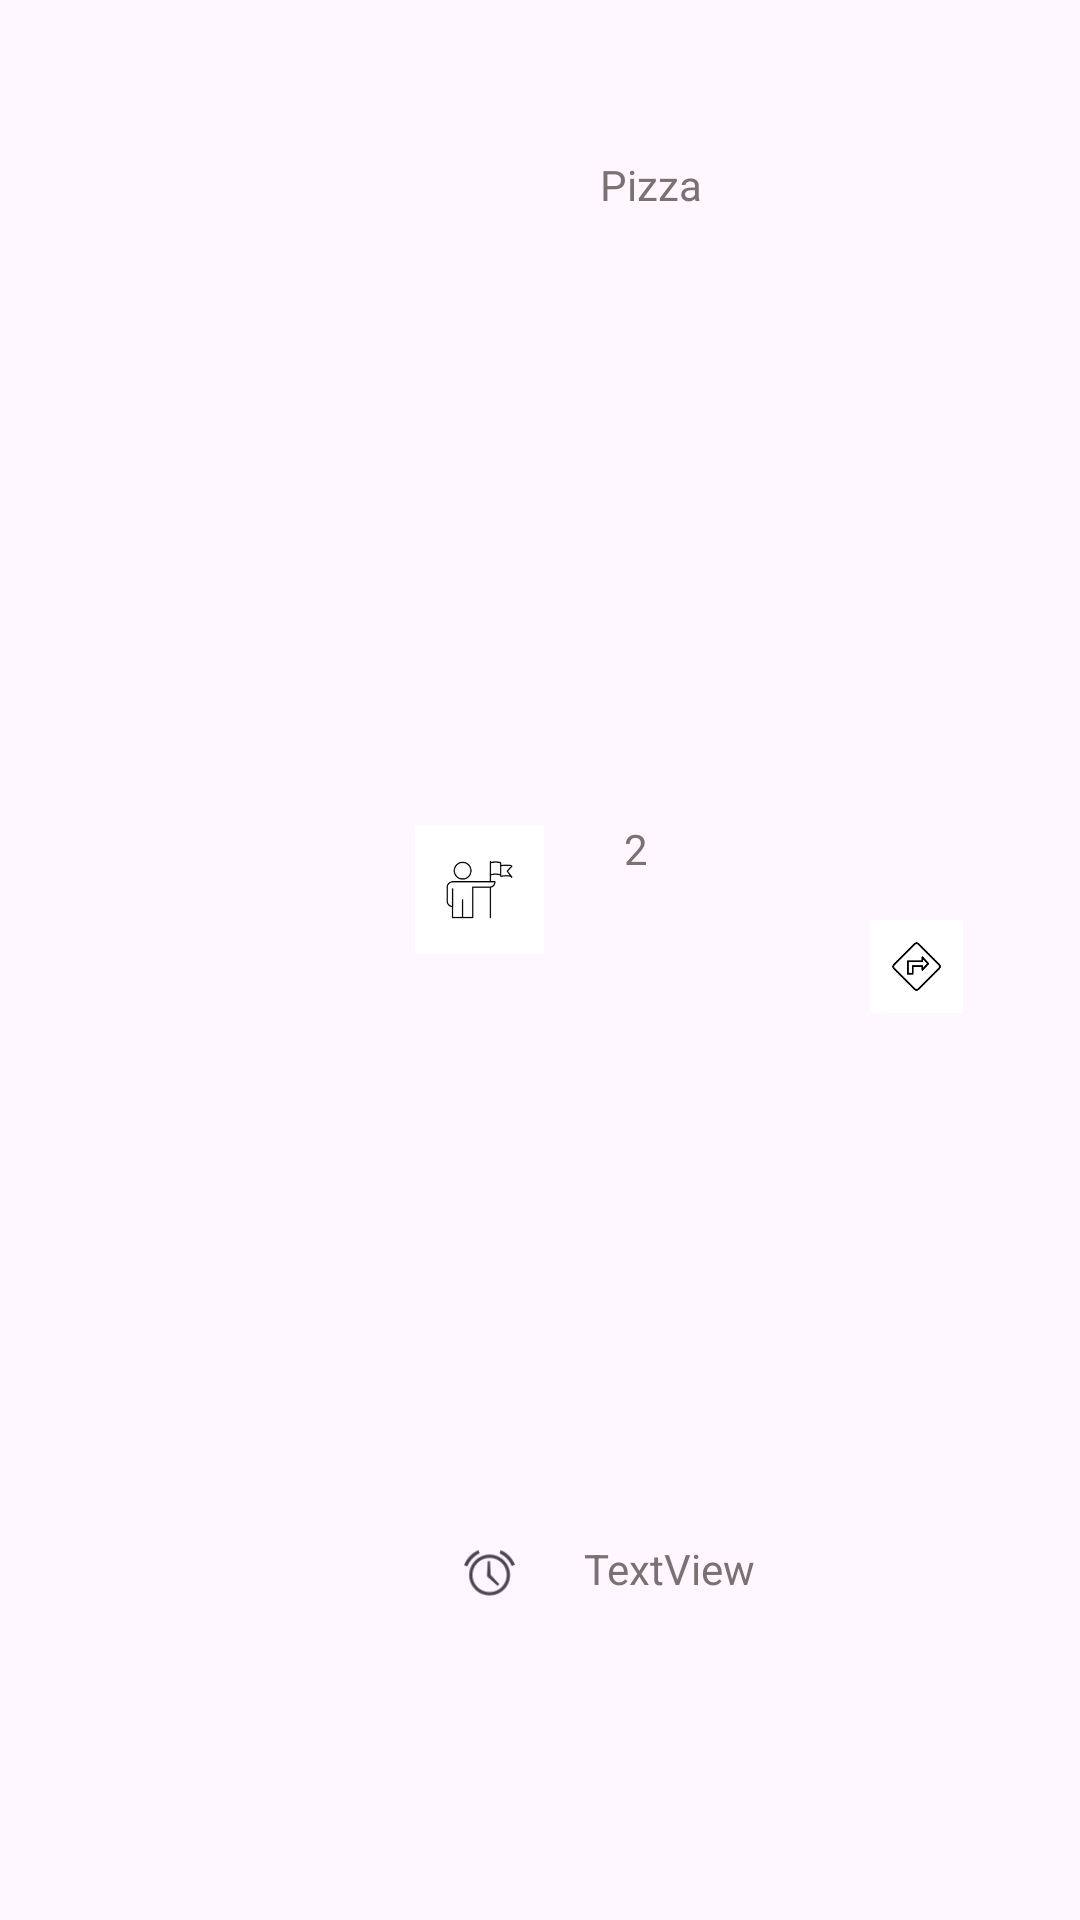

Locate icon controls on the screen. Image size 1080 x 1920, boxes as [x1, y1, x2, y2].
homme: [446, 860, 513, 919]
lock idle alarm: [464, 1550, 515, 1596]
